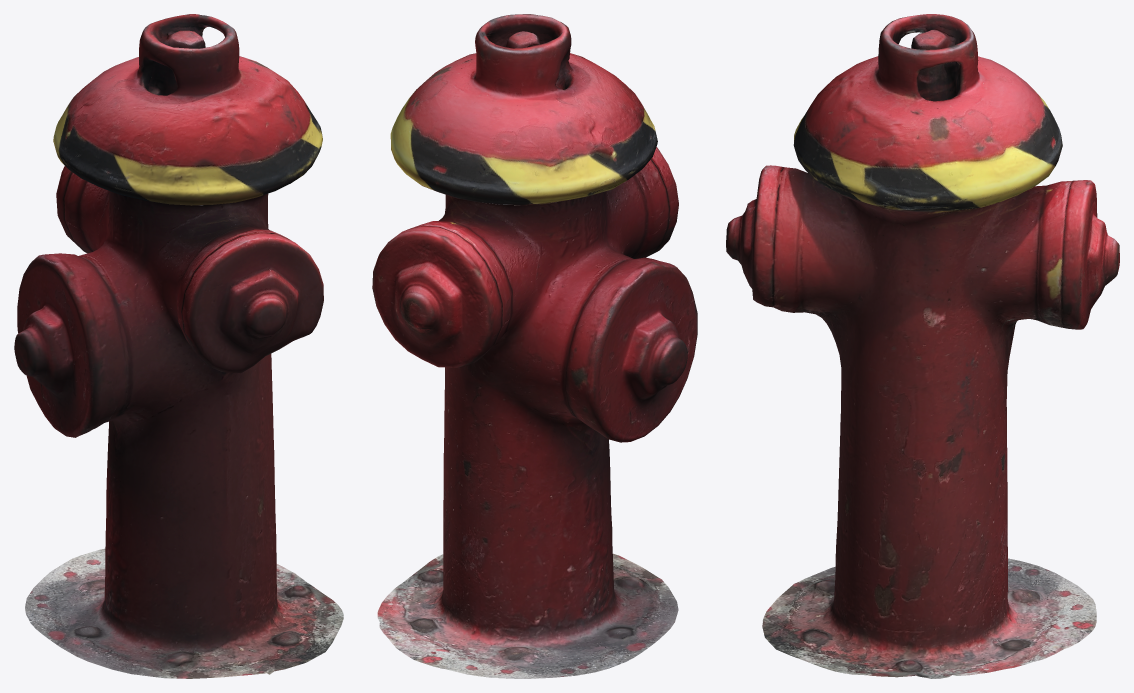
File: FT_XFS_OK.gltf
3 renders of one model, left to right at view 1: azimuth 30°, elevation 25°; view 2: azimuth 150°, elevation 25°; view 3: azimuth 270°, elevation 25°, orthographic.
Parts seen in each view (by area): view 1: FT_XFS_OK; view 2: FT_XFS_OK; view 3: FT_XFS_OK.
Boxes of the visible parts, x1,y1,x2,y2 form: FT_XFS_OK: (14,14,343,678); FT_XFS_OK: (372,14,697,678); FT_XFS_OK: (726,14,1119,678).
Size of the model in its own units: 0.2286 by 0.4536 by 0.2742.
Materials: 1 (1 with a texture image).
